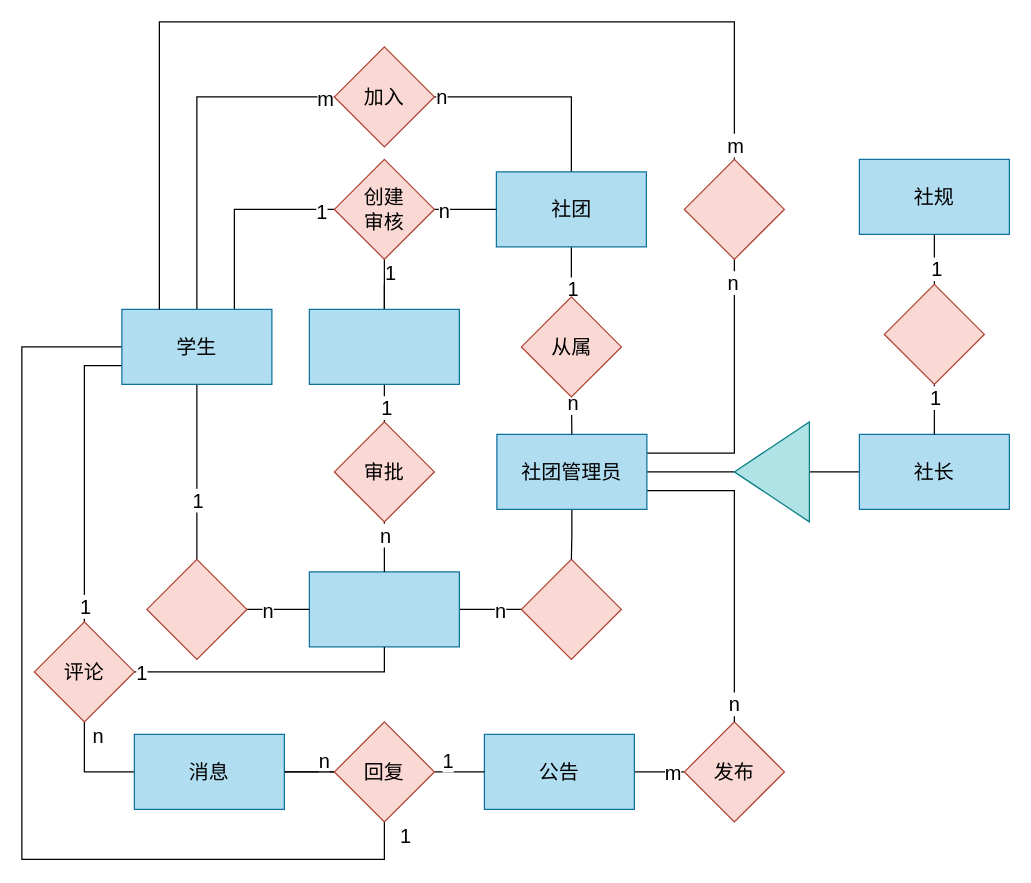
This 1031x883 diagram has some shape labels left out. Each missing label, with the centre of its shape:
"制定" belongs at (933,333).
"报名" belongs at (196,608).
"担任" belongs at (733,208).
"活动" belongs at (383,609).
"系统管理员" belongs at (383,346).
"组织" belongs at (570,608).
"继承" belongs at (771,471).
